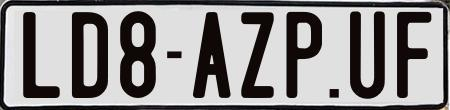8: (118, 10, 158, 101)
A: (193, 9, 233, 100)
D: (72, 9, 114, 99)
F: (396, 10, 436, 100)
L: (22, 9, 59, 96)
P: (285, 10, 325, 100)
U: (350, 11, 385, 103)
Z: (239, 9, 273, 95)
